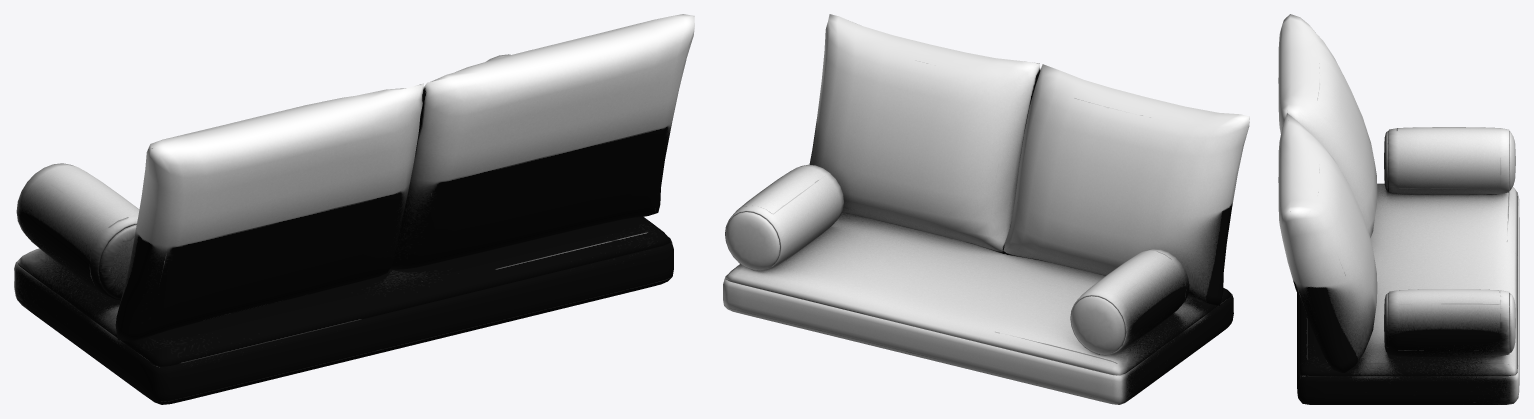
Rendered from cushion3.glb.
The picture shows the model from 3 angles, left to right: view 1: azimuth 30°, elevation 25°; view 2: azimuth 150°, elevation 25°; view 3: azimuth 270°, elevation 25°; orthographic projection. The views are drawn at different scales.
Visible parts, largest first — view 1: cushion3; view 2: cushion3; view 3: cushion3.
Part boxes in pixels (x1,y1,x2,y2): cushion3: (14,14,694,404); cushion3: (723,14,1249,404); cushion3: (1278,14,1519,404).
Bounding box in the file's own units: 1.73 × 0.8236 × 0.8899.
Materials: 1 (1 with a texture image).
